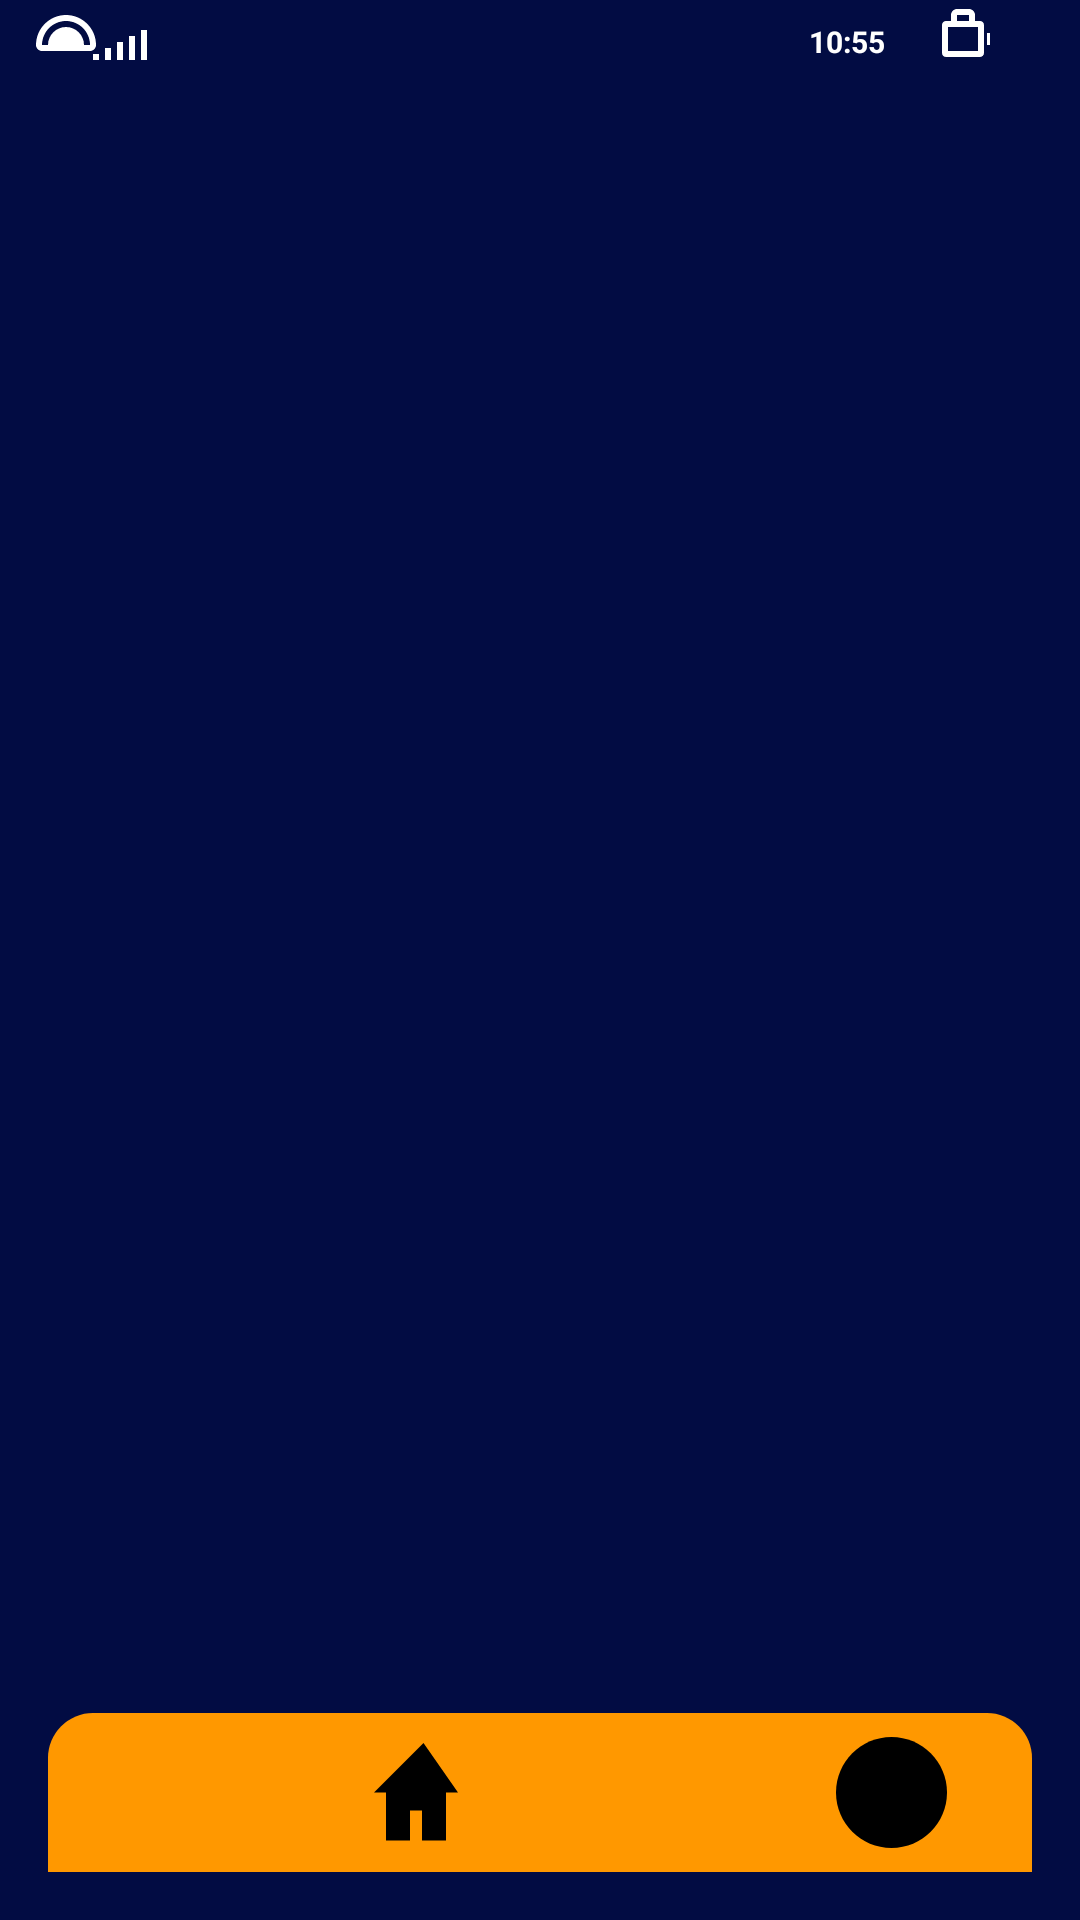

Screen size 1080 x 1920. Icon name, then its center in pixels as (x,y):
home: (416,1792)
signal: (120,45)
wifi: (66,37)
